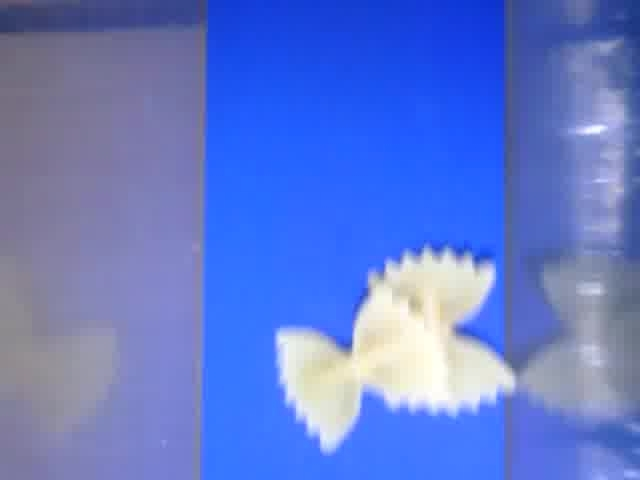farfalle: (273, 285, 451, 453), (366, 243, 516, 415)
